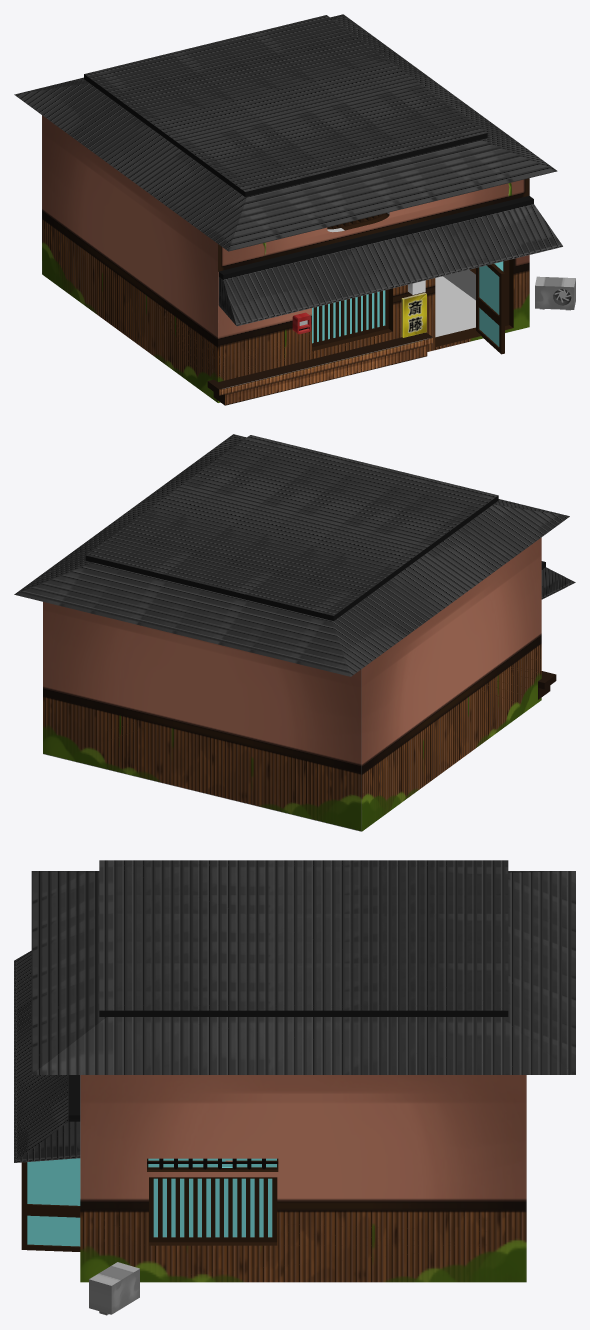
File: House_Saito.fbx
3 renders of one model, top to bottom at view 1: azimuth 30°, elevation 25°; view 2: azimuth 150°, elevation 25°; view 3: azimuth 270°, elevation 25°, orthographic. The views are drawn at different scales.
Parts seen in each view (by area): view 1: Top.002, building.002, Cube.232, Cube.257, Cube.231, Cube.220, Cube.081, Cube.233; view 2: building.002, Top.002, Cube.232; view 3: Top.002, building.002, Cube.249, Cube.232, Cube.220, Cube.081, Cube.228.
Part boxes in pixels (<box>): Top.002: <box>14,14,557,251</box>; building.002: <box>42,115,529,402</box>; Cube.232: <box>218,196,562,326</box>; Cube.257: <box>207,332,432,405</box>; Cube.231: <box>312,289,388,347</box>; Cube.220: <box>476,263,504,354</box>; Cube.081: <box>535,276,575,310</box>; Cube.233: <box>401,292,426,337</box>; building.002: <box>43,537,541,831</box>; Top.002: <box>14,434,569,676</box>; Cube.232: <box>541,561,575,599</box>; Top.002: <box>31,860,575,1074</box>; building.002: <box>80,1075,526,1282</box>; Cube.249: <box>149,1177,277,1242</box>; Cube.232: <box>14,950,80,1162</box>; Cube.220: <box>21,1158,80,1251</box>; Cube.081: <box>89,1262,139,1315</box>; Cube.228: <box>147,1158,278,1169</box>.
Size of the model in its own units: 1628 by 812 by 1647.
